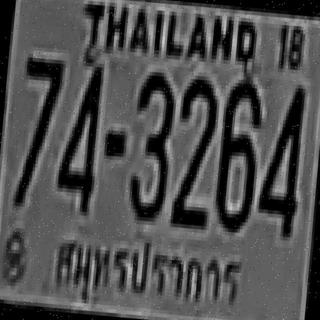N02: (169, 74, 218, 226), (170, 73, 218, 214)
N03: (125, 67, 176, 219)
N04: (254, 80, 306, 236), (53, 59, 102, 210)
N06: (211, 74, 262, 230)
N07: (12, 53, 63, 205)
P57: (44, 225, 250, 320)
